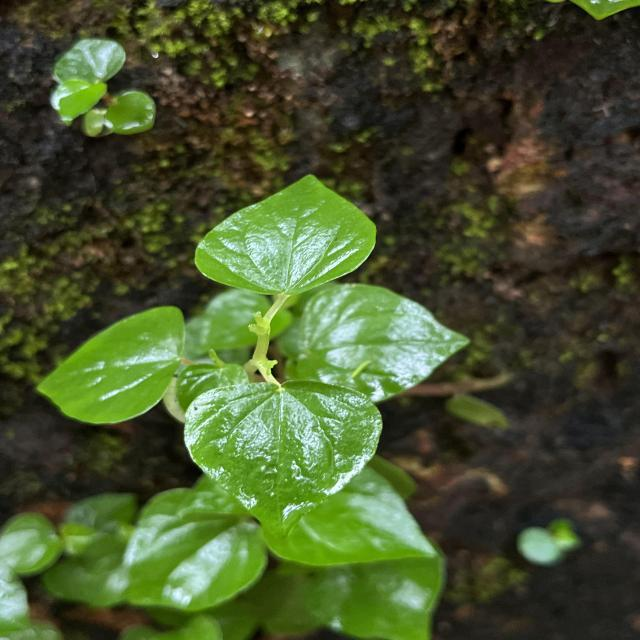Peperomia pellucida: (179, 377, 386, 544), (190, 168, 380, 300)
